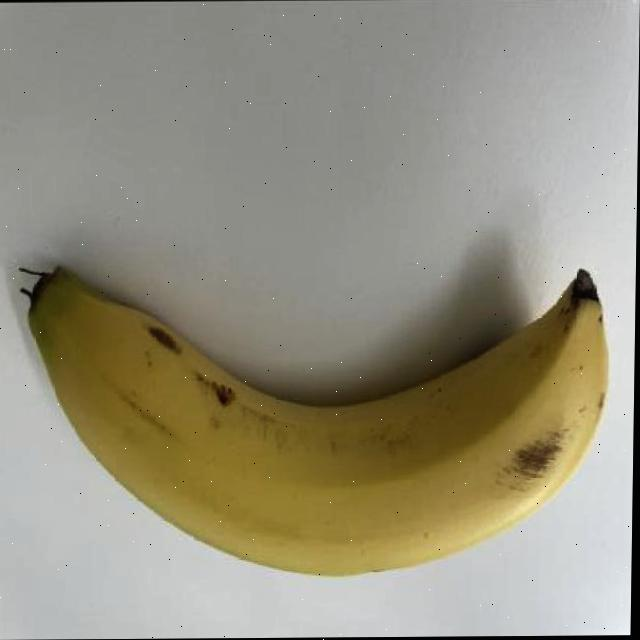banana: (4, 241, 615, 586)
